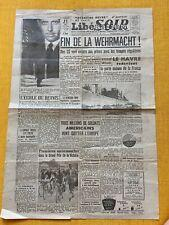paper: (2, 10, 159, 218)
